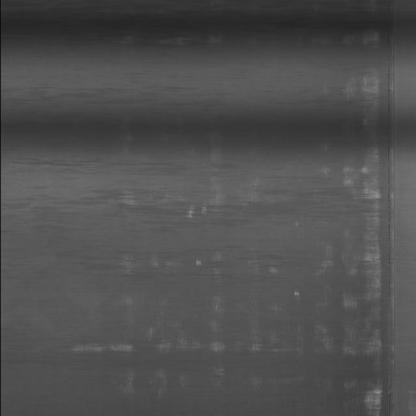welding_line: (377, 6, 404, 416)
